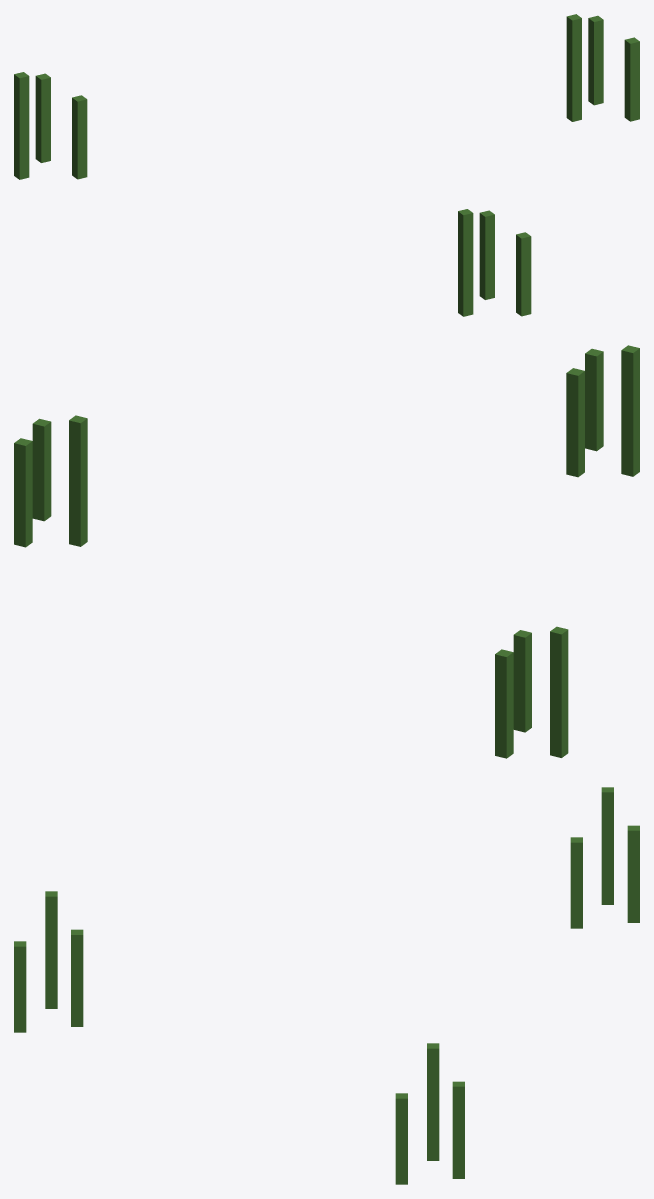
The model's file is grass.glb.
3 views of the same model, one above another, from view 1: azimuth 30°, elevation 25°; view 2: azimuth 150°, elevation 25°; view 3: azimuth 270°, elevation 25° (orthographic). The views are drawn at different scales.
Parts seen in each view (by area): view 1: grass; view 2: grass; view 3: grass.
Part boxes in pixels (box(x1,y1,x2,y2)): grass: box(14, 14, 639, 316); grass: box(14, 345, 639, 758); grass: box(14, 787, 639, 1184).
Bounding box in the file's own units: 5.43 × 1 × 5.04.
